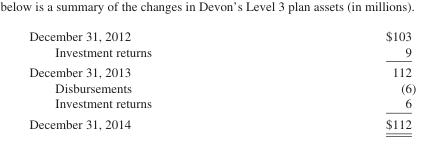table: (28, 28, 415, 130)
table column: (28, 28, 268, 130), (268, 28, 415, 130)
table row: (28, 43, 415, 61), (28, 61, 415, 79), (28, 95, 415, 113), (28, 113, 415, 130), (28, 79, 415, 95), (28, 28, 415, 43)
